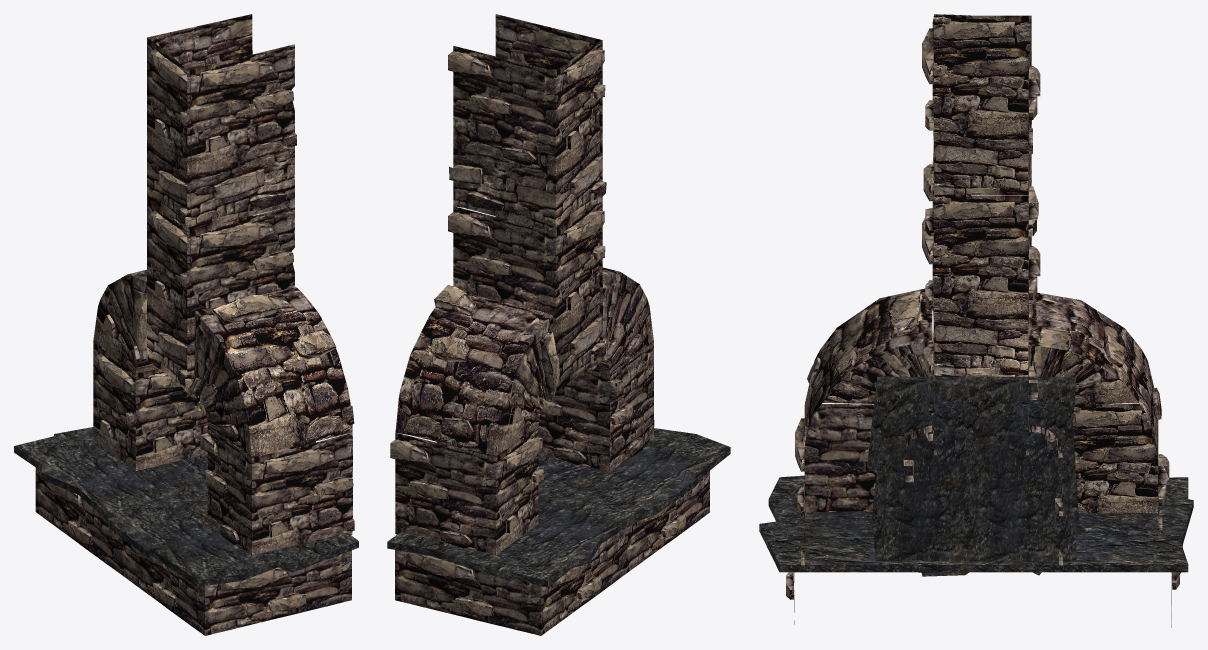
The model's file is oven.FBX.
The picture shows the model from 3 angles, left to right: view 1: azimuth 30°, elevation 25°; view 2: azimuth 150°, elevation 25°; view 3: azimuth 270°, elevation 25°; orthographic projection. The views are drawn at different scales.
Visible parts, largest first — view 1: oven; view 2: oven; view 3: oven.
Part boxes in pixels (x1=…): oven: x1=14, y1=14, x2=358, y2=635; oven: x1=387, y1=14, x2=730, y2=635; oven: x1=759, y1=14, x2=1193, y2=627.
Size of the model in its own units: 237 by 460 by 663.
